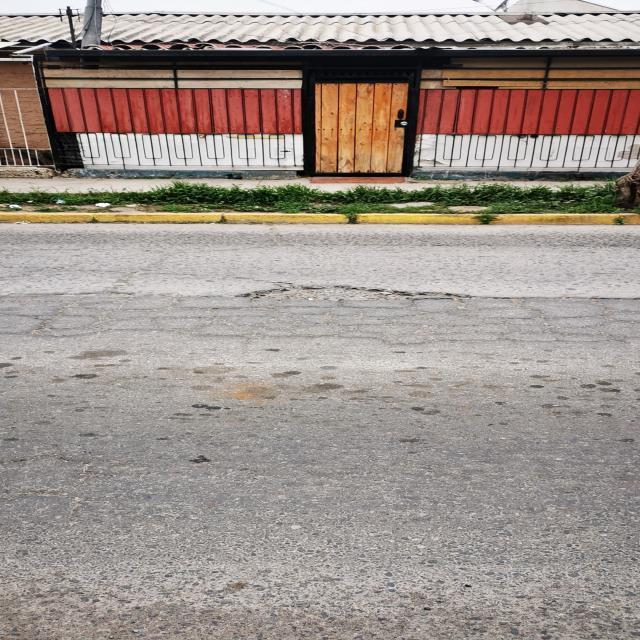GRIETA: (464, 295, 639, 300)
PARCHE: (237, 285, 463, 300)
PIEL DE COCODRILO: (18, 290, 614, 349)
